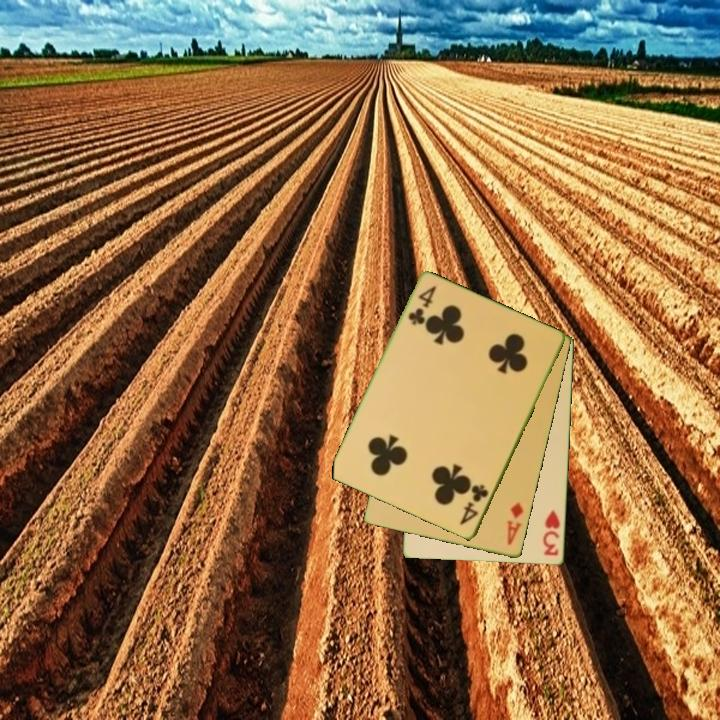3h: (540, 506, 563, 559)
4c: (456, 481, 492, 528), (405, 282, 440, 329)
Ad: (504, 499, 526, 548)
